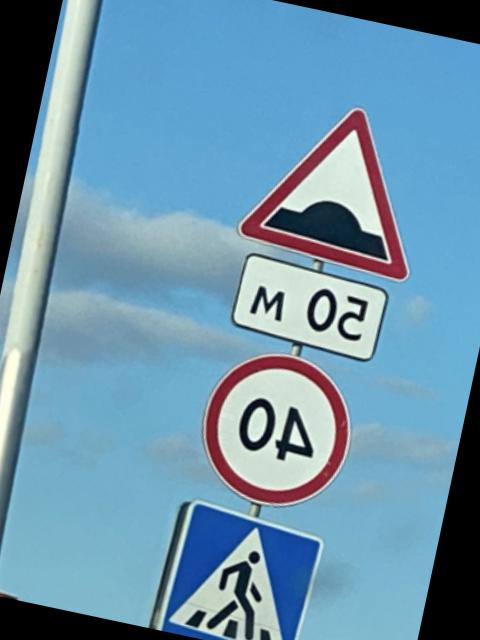crosswalk-sign: (151, 494, 332, 640)
